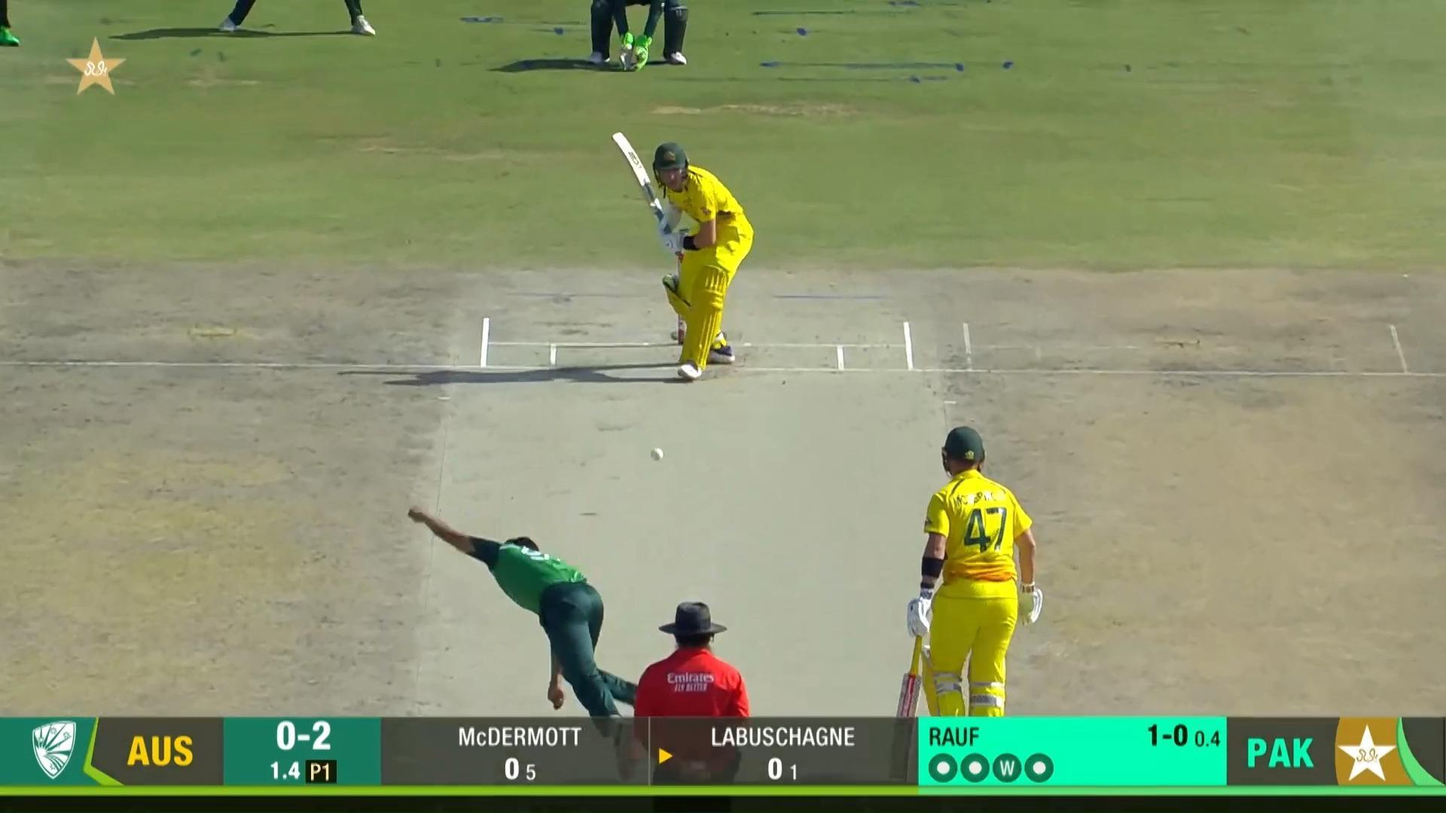BM 1: (611, 129, 755, 379)
BO: (407, 503, 674, 792)
